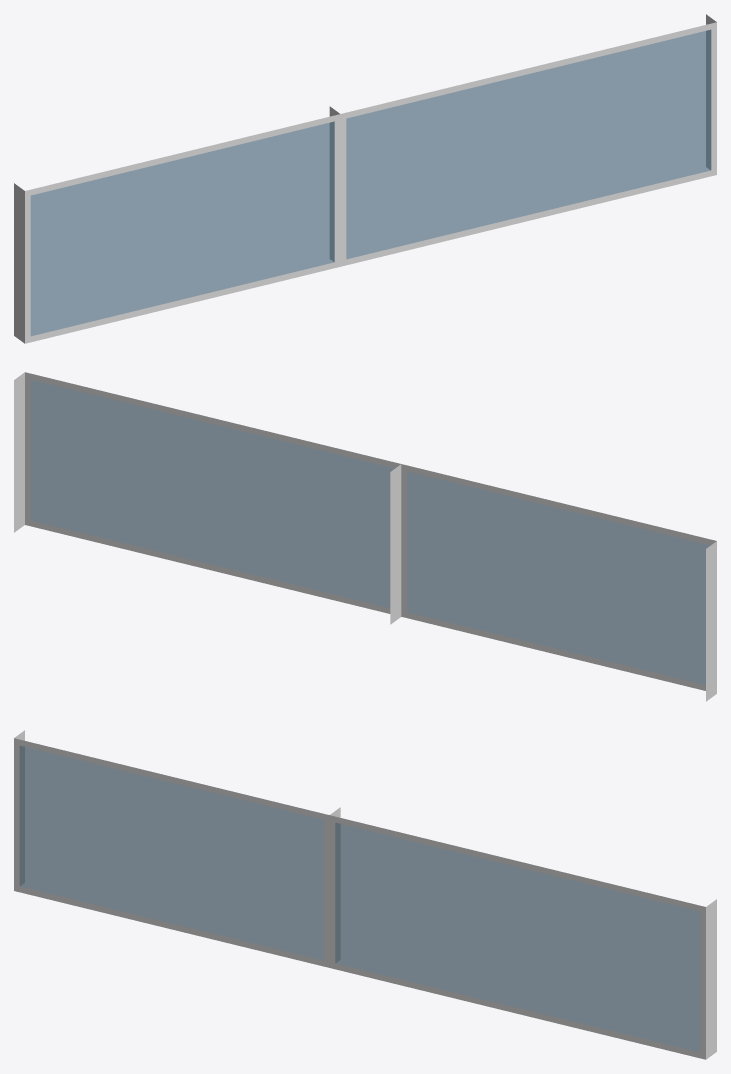
File: p-44-entrance-enter-glas.fbx
3 renders of one model, top to bottom at view 1: azimuth 30°, elevation 25°; view 2: azimuth 150°, elevation 25°; view 3: azimuth 330°, elevation 25°, orthographic.
Visible parts, largest first — view 1: p44-entrance-enter-glas; view 2: p44-entrance-enter-glas; view 3: p44-entrance-enter-glas.
Boxes of the visible parts, x1,y1,x2,y2 form: p44-entrance-enter-glas: (14,14,716,343); p44-entrance-enter-glas: (14,372,716,701); p44-entrance-enter-glas: (14,730,716,1059).
Bounding box in the file's own units: 364 × 76.9 × 10.
